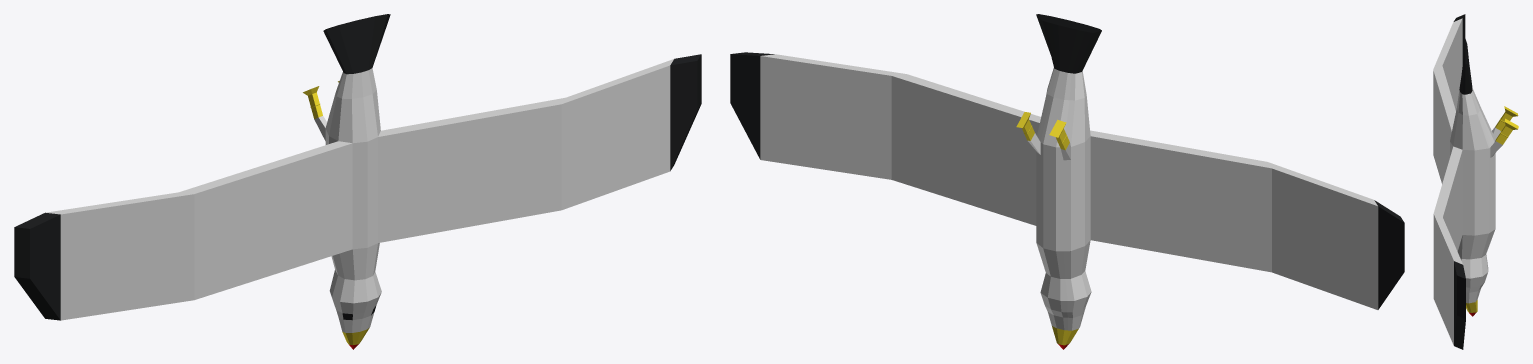
Rendered from seagull.glb.
3 views of the same model, side by side, from view 1: azimuth 30°, elevation 25°; view 2: azimuth 150°, elevation 25°; view 3: azimuth 270°, elevation 25° (orthographic). The views are drawn at different scales.
Parts seen in each view (by area): view 1: Segull; view 2: Segull; view 3: Segull.
Boxes of the visible parts, <box> form: Segull: <box>14,14,701,349</box>; Segull: <box>730,14,1404,349</box>; Segull: <box>1433,14,1518,349</box>.
Size of the model in its own units: 29.39 by 13.61 by 3.95.
